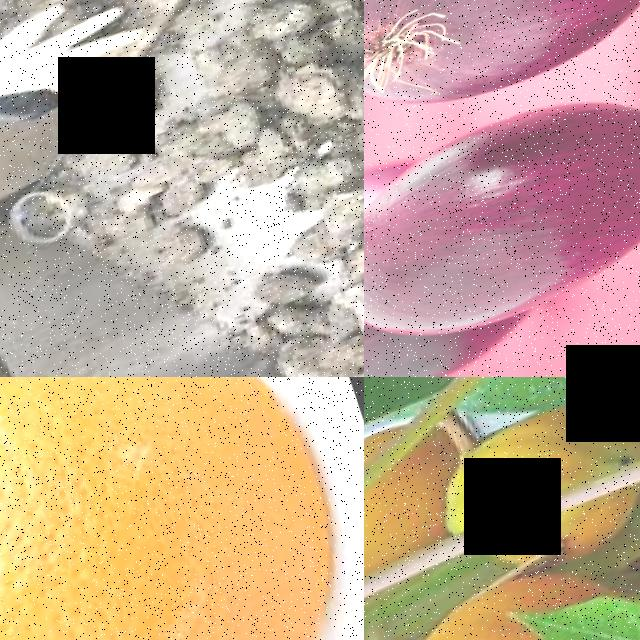onion: (364, 68, 640, 377), (364, 0, 640, 164)
orange: (0, 377, 364, 640)
pawpaw: (422, 390, 640, 604)
